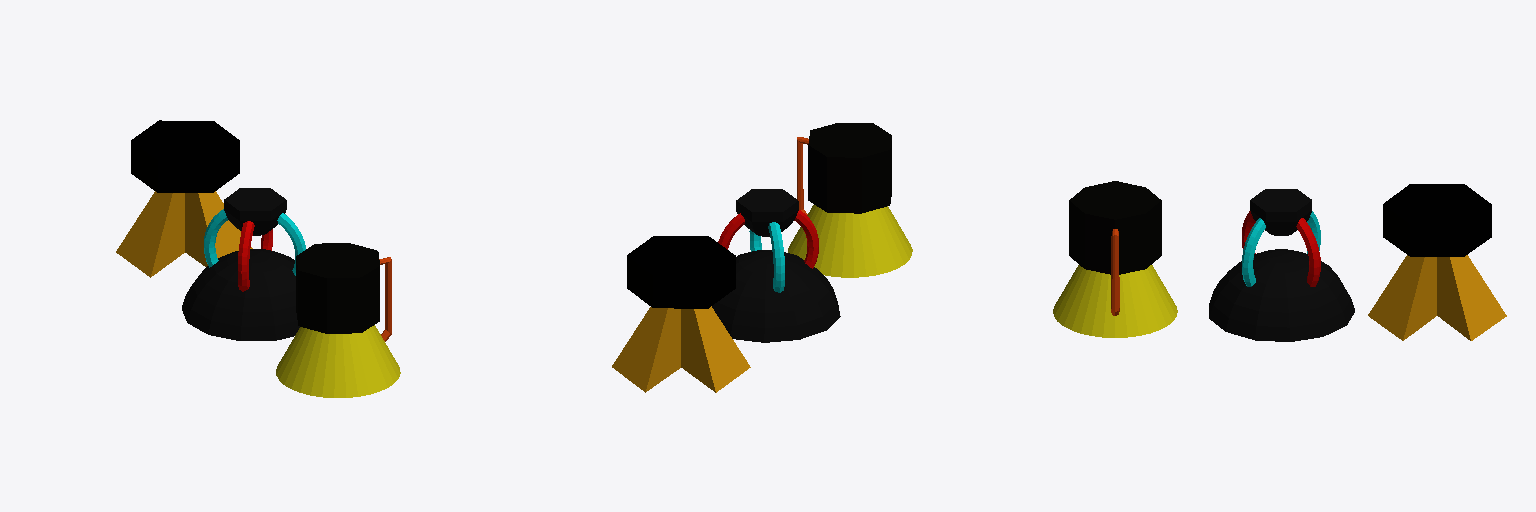
File: RocketThrusters.obj
The picture shows the model from 3 angles: view 1: azimuth 30°, elevation 25°; view 2: azimuth 150°, elevation 25°; view 3: azimuth 270°, elevation 25°; orthographic projection.
Parts seen in each view (by area): view 1: Rocket_001_Cylinder.003, Rocket_002_Cylinder.004, Rocket_003_Sphere; view 2: Rocket_002_Cylinder.004, Rocket_001_Cylinder.003, Rocket_003_Sphere; view 3: Rocket_002_Cylinder.004, Rocket_001_Cylinder.003, Rocket_003_Sphere.
Boxes of the visible parts, box(x1,y1,x2,y2) form: Rocket_001_Cylinder.003: box(276, 243, 400, 397); Rocket_002_Cylinder.004: box(116, 120, 252, 277); Rocket_003_Sphere: box(182, 188, 305, 340); Rocket_002_Cylinder.004: box(612, 236, 750, 392); Rocket_001_Cylinder.003: box(788, 123, 912, 277); Rocket_003_Sphere: box(712, 189, 840, 342); Rocket_002_Cylinder.004: box(1368, 184, 1506, 340); Rocket_001_Cylinder.003: box(1053, 181, 1177, 337); Rocket_003_Sphere: box(1209, 189, 1354, 341).
Size of the model in its own units: 4.79 by 4.01 by 14.78.